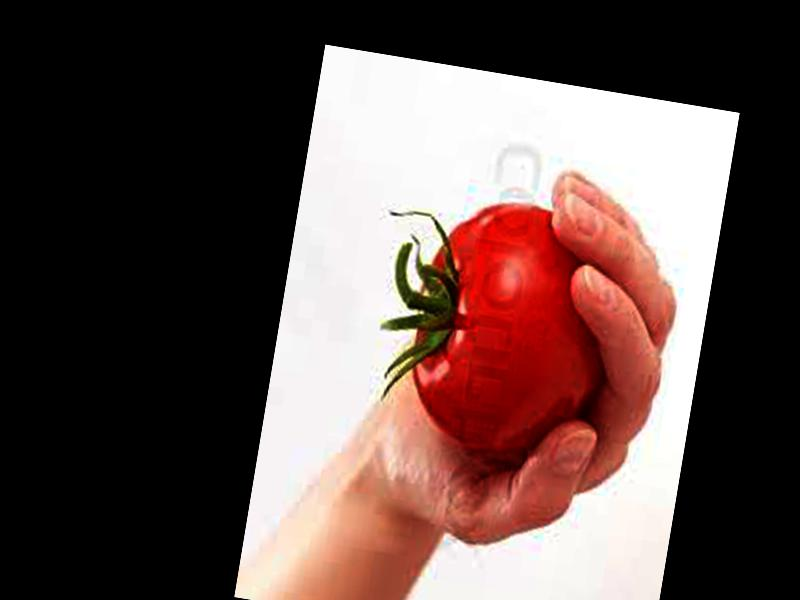Tomato: (396, 190, 626, 464)
